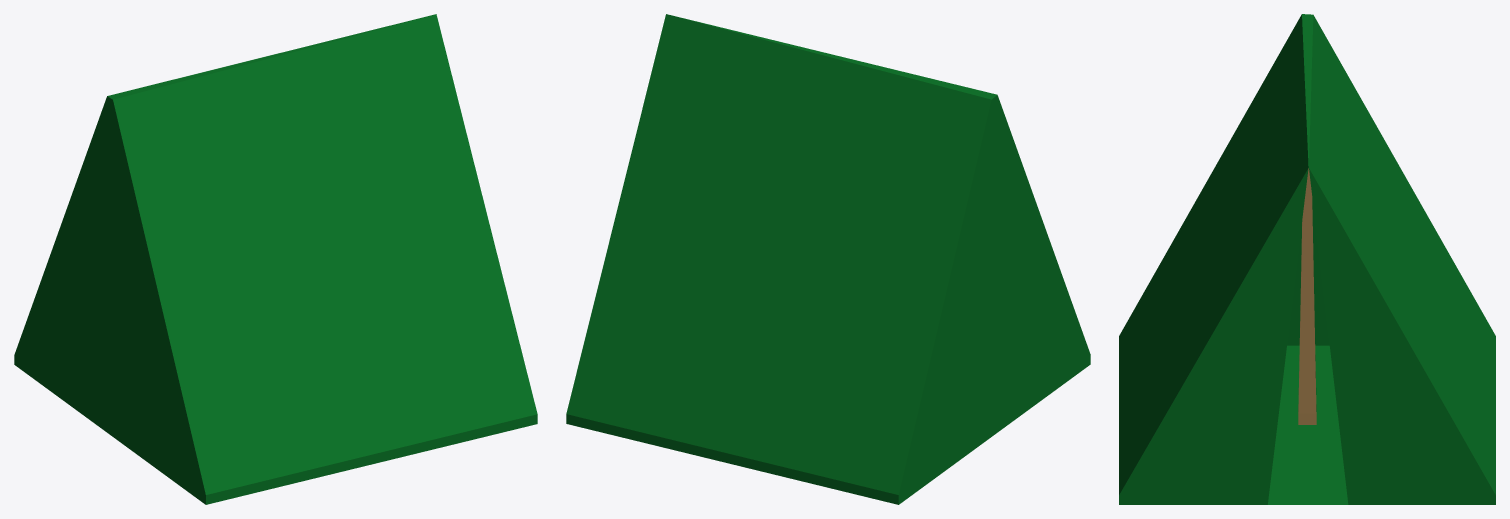
The model's file is tenta.fbx.
3 views of the same model, side by side, from view 1: azimuth 30°, elevation 25°; view 2: azimuth 150°, elevation 25°; view 3: azimuth 270°, elevation 25° (orthographic).
Visible parts, largest first — view 1: Cube; view 2: Cube; view 3: Cube.
Boxes of the visible parts, x1,y1,x2,y2 form: Cube: (14, 14, 537, 504); Cube: (566, 14, 1090, 504); Cube: (1119, 14, 1495, 504).
Bounding box in the file's own units: 200 × 196 × 200.
